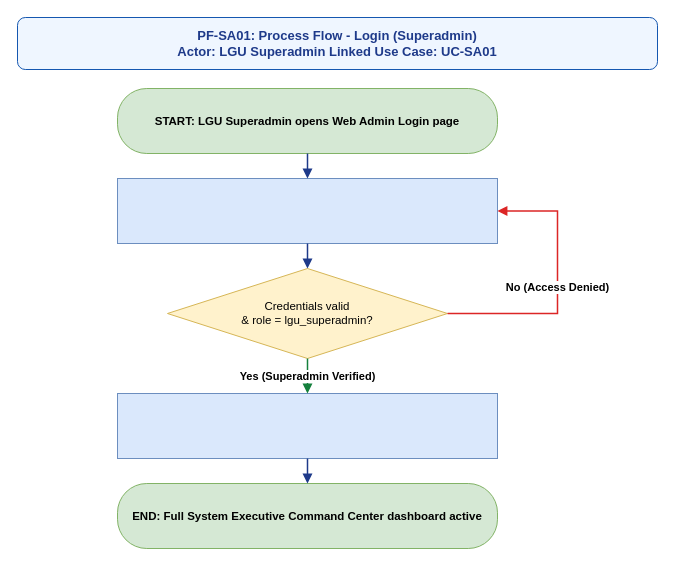
This 675x566 diagram has some shape labels left out. Each missing label, with the centre of its shape:
"Enters root executive credentials and password" belongs at point 307,211.
"System unlocks full Executive Command Center, Heatmap & Global Policy tools" belongs at point 307,425.
